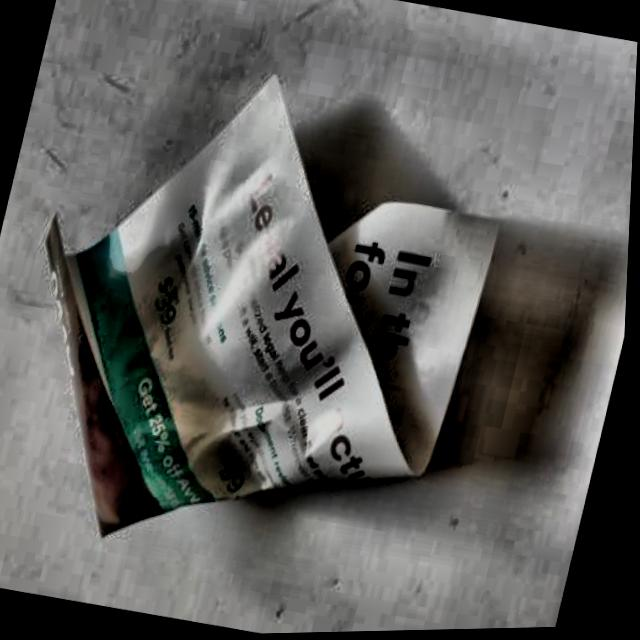Paper: (0, 30, 535, 606)
